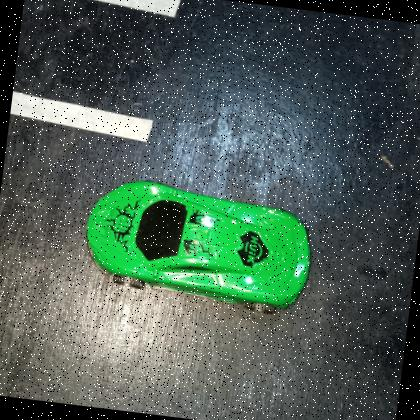Car: (85, 181, 312, 310)
